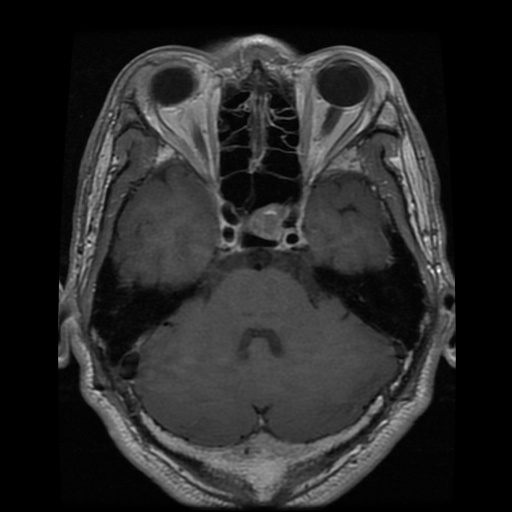pituitary: (244, 203, 289, 241)
